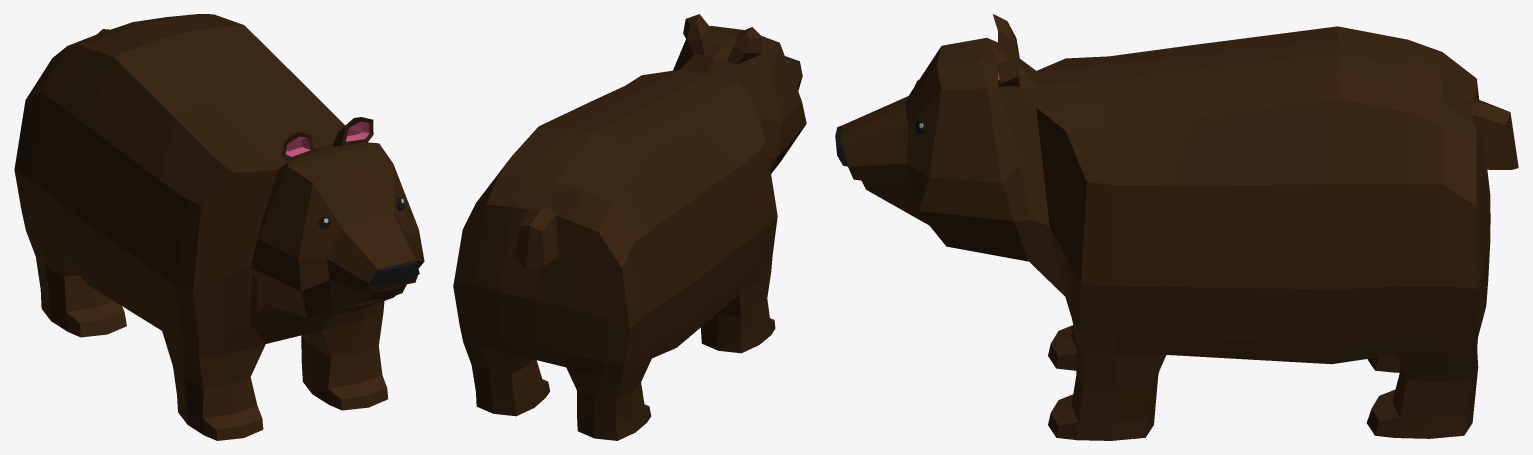
The model's file is Bear_01.fbx.
3 views of the same model, side by side, from view 1: azimuth 30°, elevation 25°; view 2: azimuth 150°, elevation 25°; view 3: azimuth 270°, elevation 25° (orthographic). The views are drawn at different scales.
Parts seen in each view (by area): view 1: Bear_01; view 2: Bear_01; view 3: Bear_01.
Part boxes in pixels (x1=…): Bear_01: x1=14, y1=14, x2=424, y2=440; Bear_01: x1=453, y1=14, x2=806, y2=440; Bear_01: x1=835, y1=14, x2=1518, y2=440.
Size of the model in its own units: 6.84 by 10.07 by 17.35.
